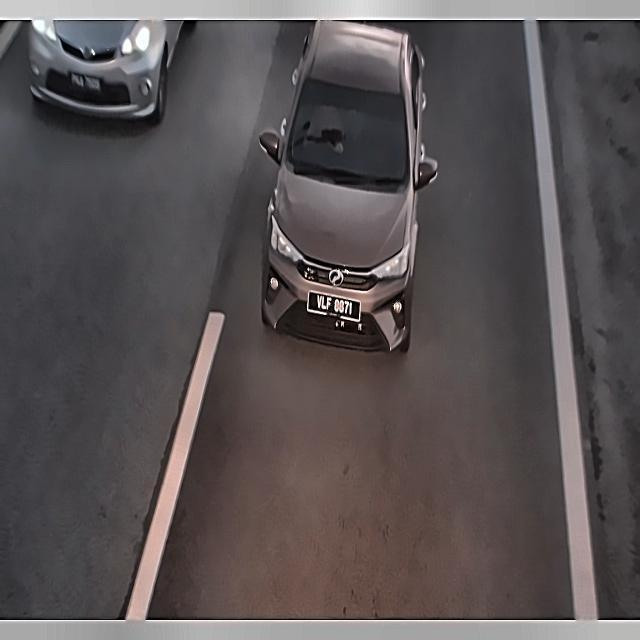car: (306, 287, 363, 327), (63, 60, 109, 101)
